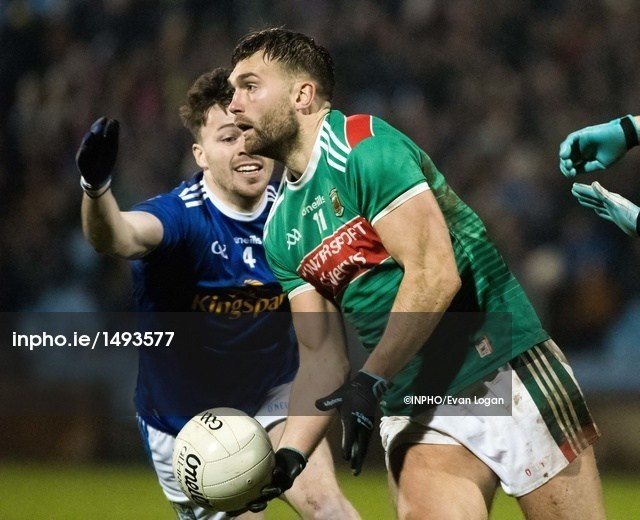ball: (166, 399, 277, 511)
player: (218, 30, 584, 511), (99, 55, 362, 510)
